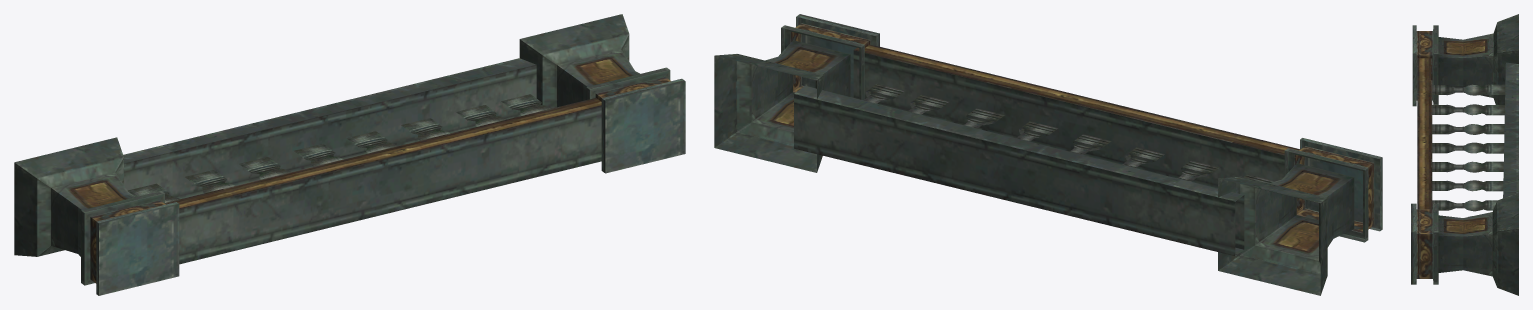
File: zhucheng_yewai_370_langan_01.obj
3 views of the same model, side by side, from view 1: azimuth 30°, elevation 25°; view 2: azimuth 150°, elevation 25°; view 3: azimuth 270°, elevation 25° (orthographic). The views are drawn at different scales.
Parts seen in each view (by area): view 1: zhucheng_shinei_321_langan_01a; view 2: zhucheng_shinei_321_langan_01a; view 3: zhucheng_shinei_321_langan_01a.
Part boxes in pixels (x1,y1,x2,y2): zhucheng_shinei_321_langan_01a: [14, 14, 685, 295]; zhucheng_shinei_321_langan_01a: [714, 14, 1382, 295]; zhucheng_shinei_321_langan_01a: [1411, 14, 1518, 295].
Bounding box in the file's own units: 252 × 36.69 × 53.4.
Materials: 2 (2 with a texture image).
